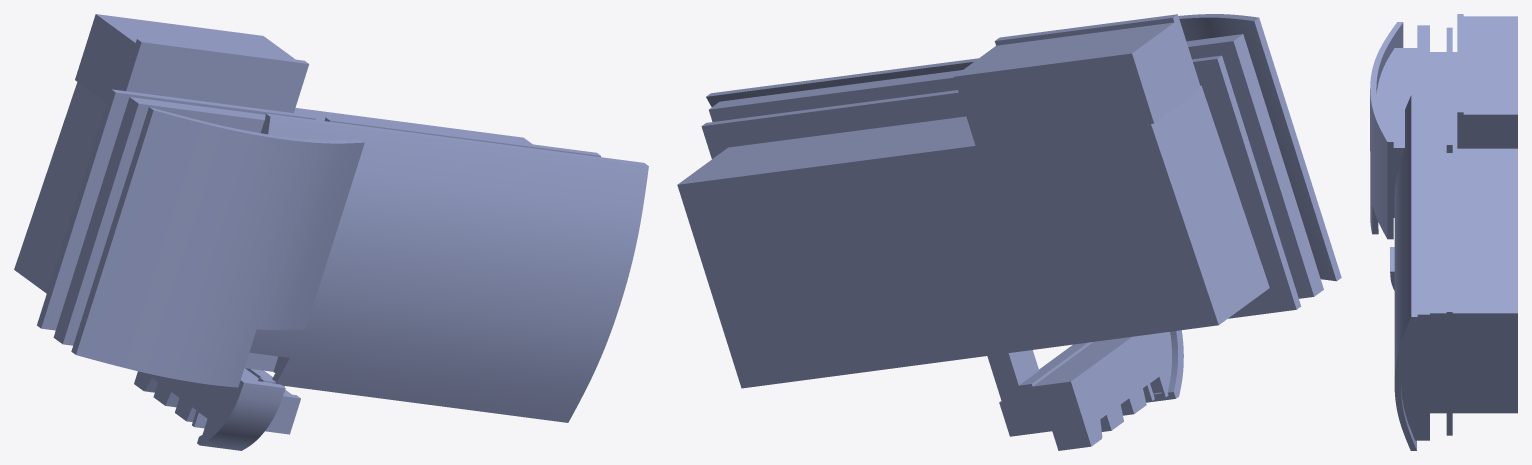
Rendered from information-tech.glb.
3 views of the same model, side by side, from view 1: azimuth 30°, elevation 25°; view 2: azimuth 150°, elevation 25°; view 3: azimuth 270°, elevation 25° (orthographic). The views are drawn at different scales.
Visible parts, largest first — view 1: Information Tech; view 2: Information Tech; view 3: Information Tech.
Part boxes in pixels (x1=…): Information Tech: x1=14, y1=14, x2=648, y2=450; Information Tech: x1=677, y1=14, x2=1341, y2=450; Information Tech: x1=1370, y1=14, x2=1517, y2=450.
Size of the model in its own units: 72.74 by 53.79 by 23.47.
